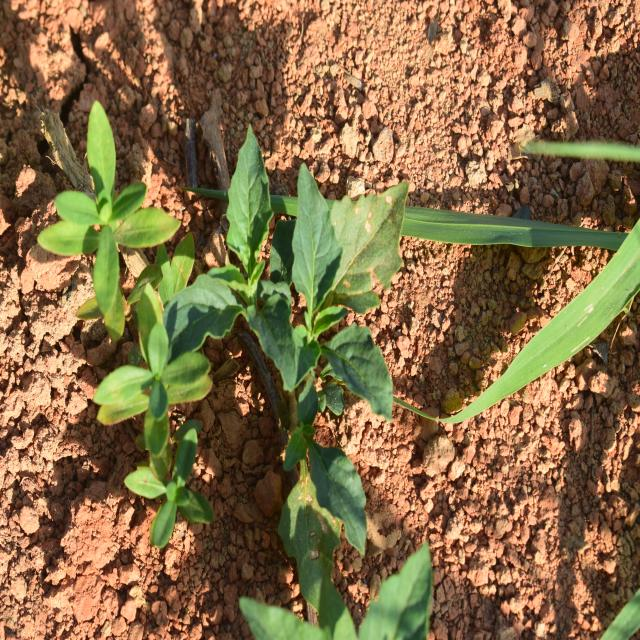Black_nightshade: (194, 156, 394, 447)
